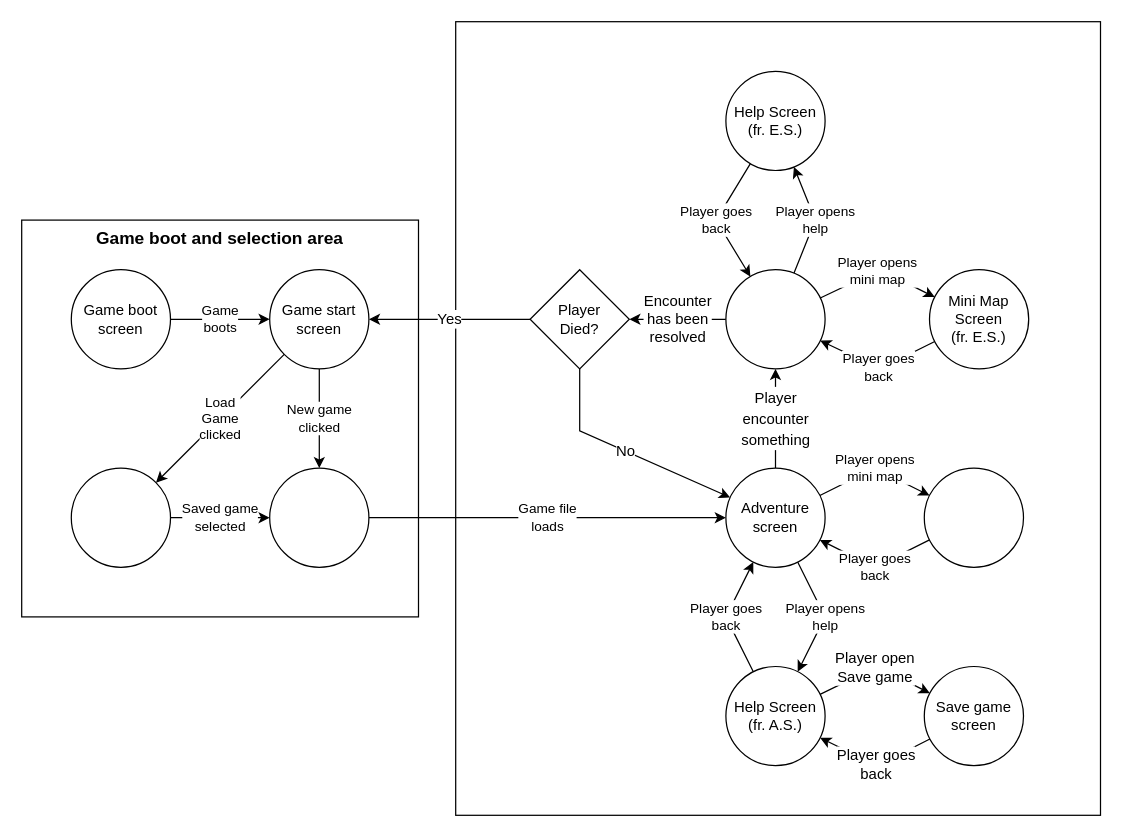
Image size: 1122x837. Some labels were removed from this diagram. Each missing label, with the box of its shape:
Encounter Screen: (725, 268, 825, 369)
Game load screen: (268, 467, 369, 567)
Mini Map Screen (fr. A.S.): (923, 467, 1023, 567)
Saved games screen: (70, 467, 170, 567)
The core game loop area: (454, 20, 1100, 815)
